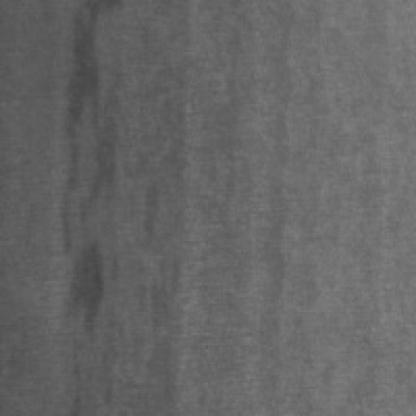inclusion: (44, 0, 118, 356)
